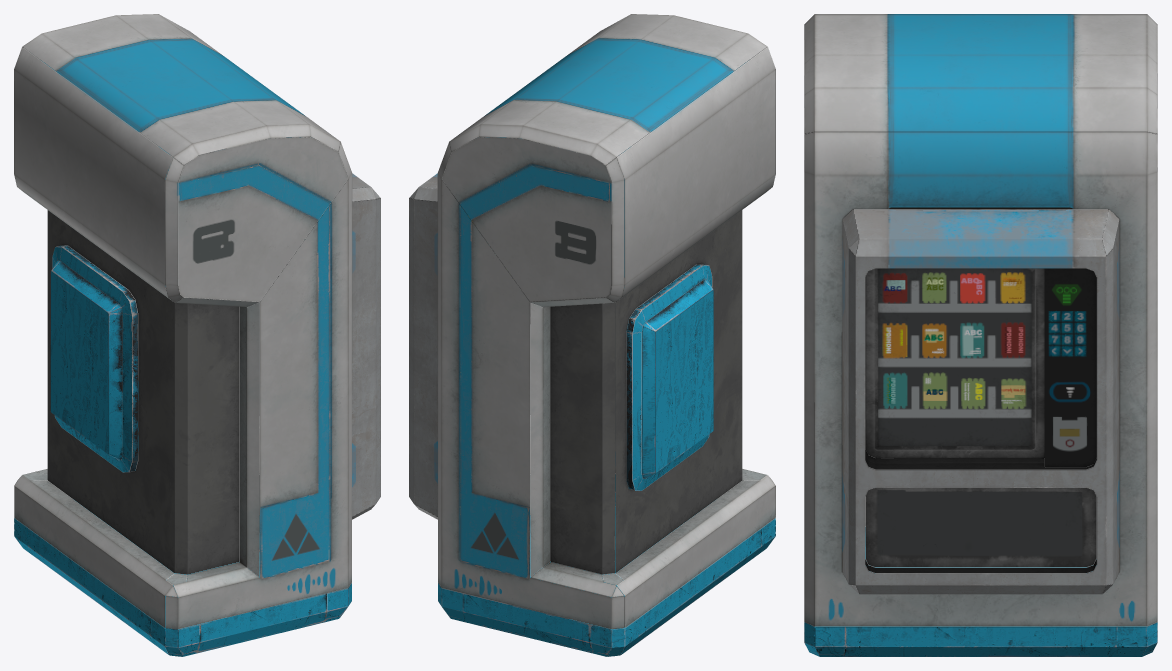
Rendered from VendingMachine white-blue.fbx.
3 renders of one model, left to right at view 1: azimuth 30°, elevation 25°; view 2: azimuth 150°, elevation 25°; view 3: azimuth 270°, elevation 25°, orthographic. The views are drawn at different scales.
Parts seen in each view (by area): view 1: VendingMachinewb_low; view 2: VendingMachinewb_low; view 3: VendingMachinewb_low.
Part boxes in pixels (x1,y1,x2,y2): VendingMachinewb_low: (14, 14, 380, 656); VendingMachinewb_low: (409, 14, 775, 656); VendingMachinewb_low: (804, 14, 1157, 656).
Bounding box in the file's own units: 116 × 241 × 138.
1 material, 1 textured.
